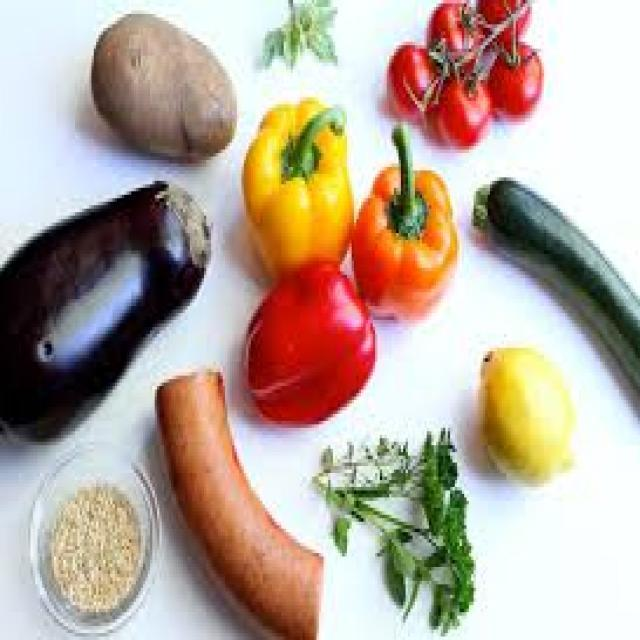Pepper: (243, 256, 379, 428), (351, 129, 462, 324), (241, 99, 355, 282)
